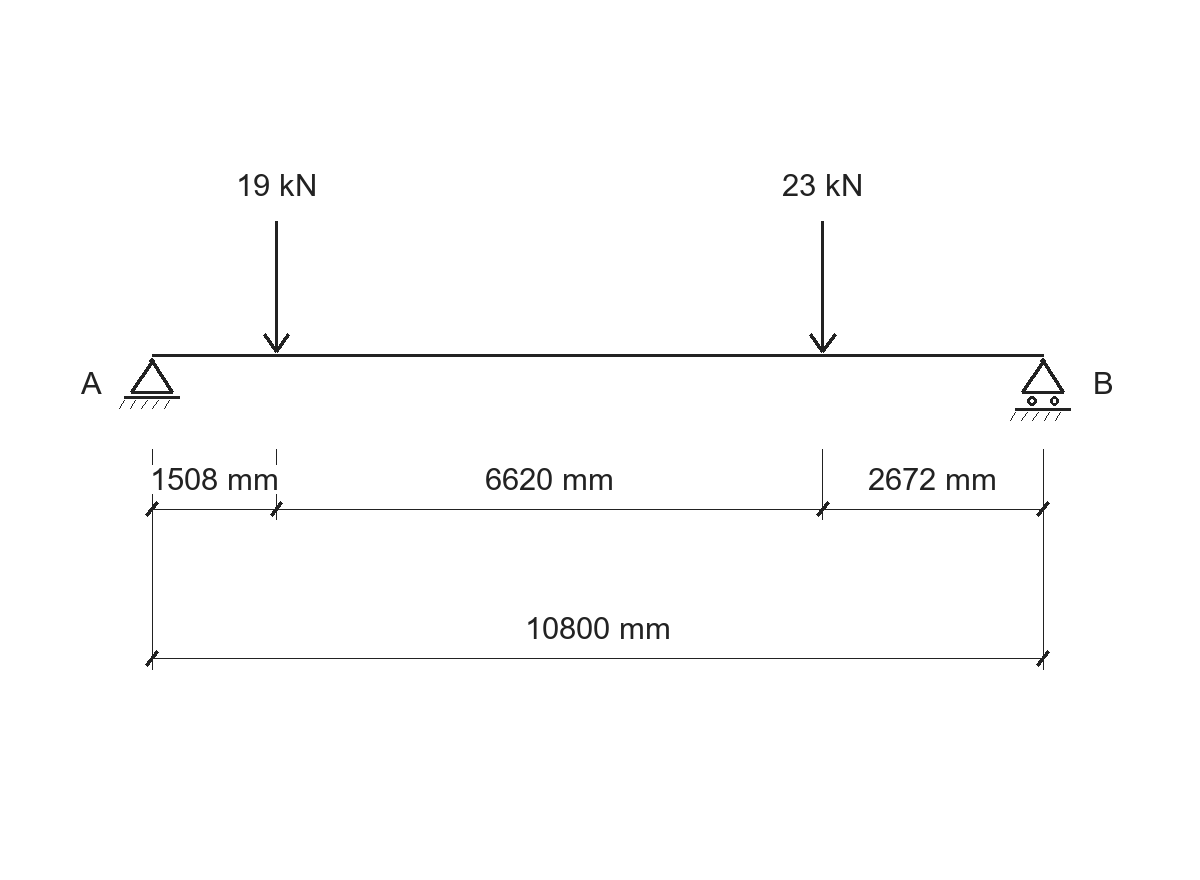pin_support: (119, 358, 180, 409)
point_load: (809, 221, 837, 353), (263, 221, 290, 353)
roller_support: (1010, 358, 1071, 421)
